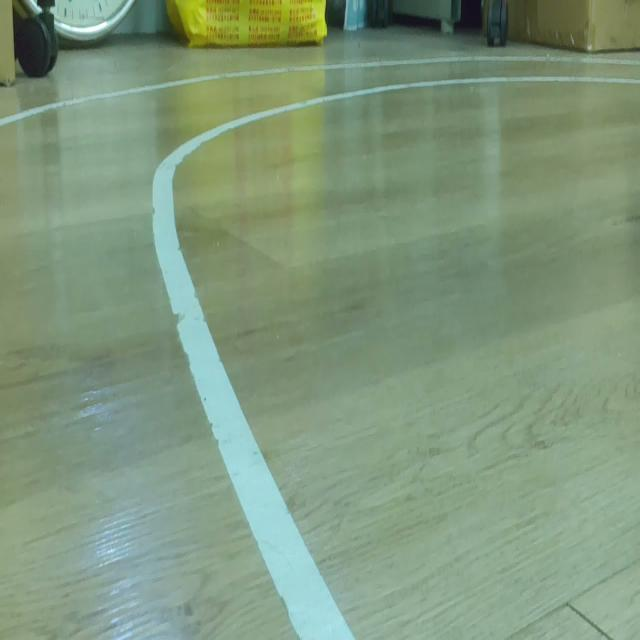road: (0, 61, 638, 639)
